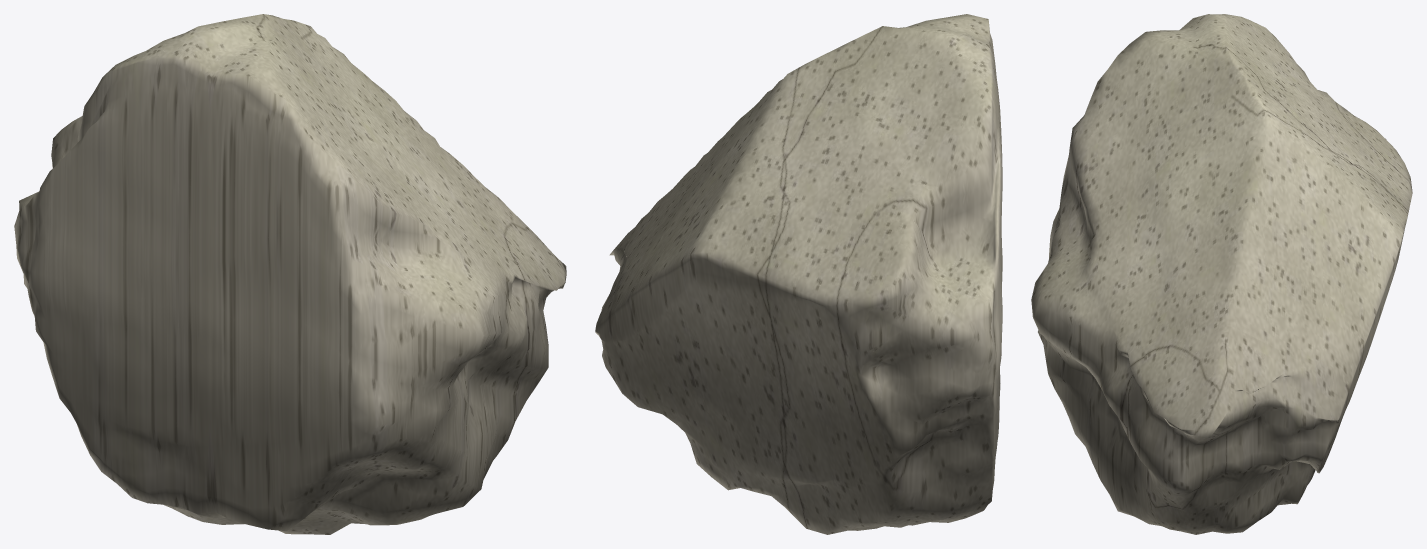
File: rock-limestone-1.full.glb
3 views of the same model, side by side, from view 1: azimuth 30°, elevation 25°; view 2: azimuth 150°, elevation 25°; view 3: azimuth 270°, elevation 25° (orthographic). The views are drawn at different scales.
Parts seen in each view (by area): view 1: model; view 2: model; view 3: model.
Part boxes in pixels (<box>): model: <box>14,14,566,534</box>; model: <box>595,14,1002,534</box>; model: <box>1031,14,1412,534</box>.
Size of the model in its own units: 1 by 1.07 by 0.8212.
1 material, 1 textured.
